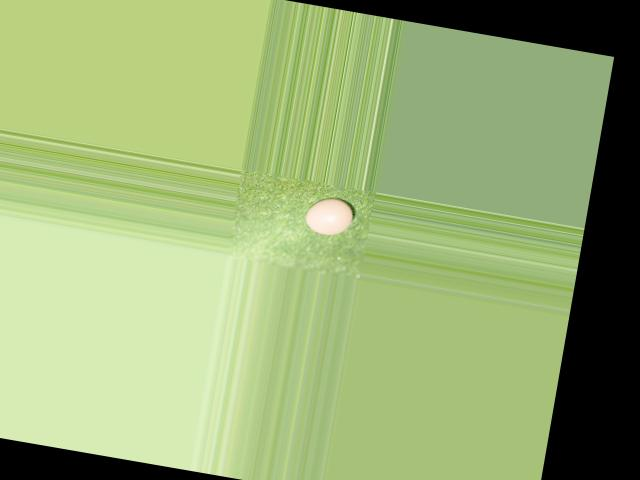egg: (302, 193, 355, 237)
